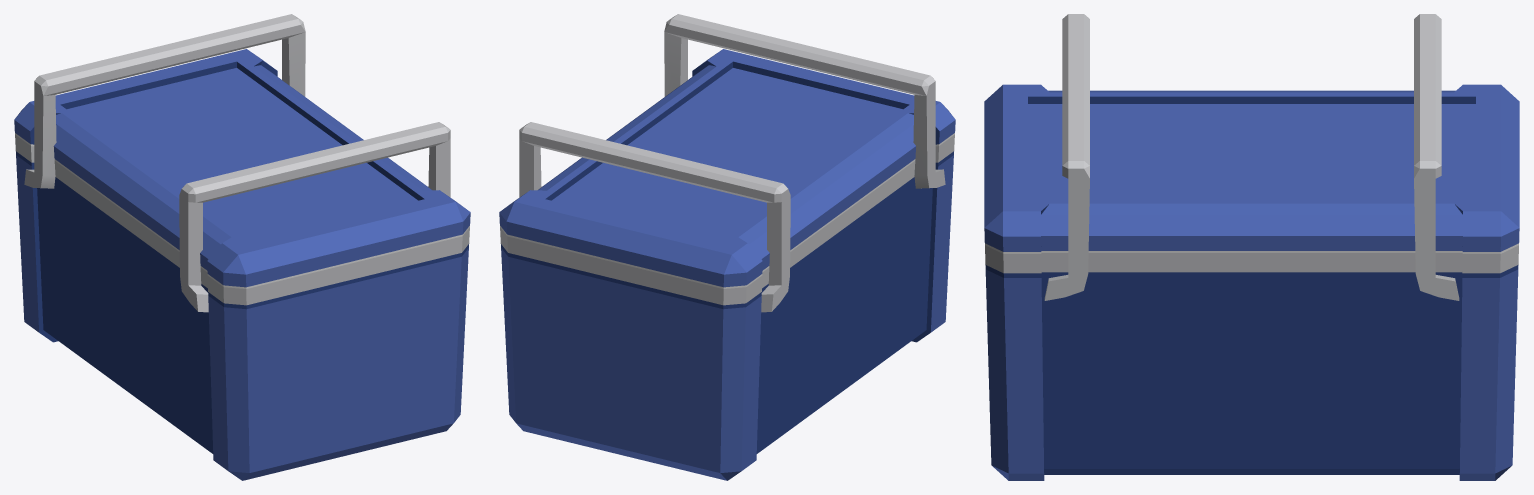
The model's file is EskyLarge.fbx.
The picture shows the model from 3 angles, left to right: view 1: azimuth 30°, elevation 25°; view 2: azimuth 150°, elevation 25°; view 3: azimuth 270°, elevation 25°; orthographic projection. The views are drawn at different scales.
Parts seen in each view (by area): view 1: Esky_Large; view 2: Esky_Large; view 3: Esky_Large.
Part boxes in pixels (box(x1,y1,x2,y2)): Esky_Large: box(14, 14, 470, 480); Esky_Large: box(499, 14, 955, 480); Esky_Large: box(984, 14, 1519, 480).
Bounding box in the file's own units: 56.04 × 57.18 × 83.
